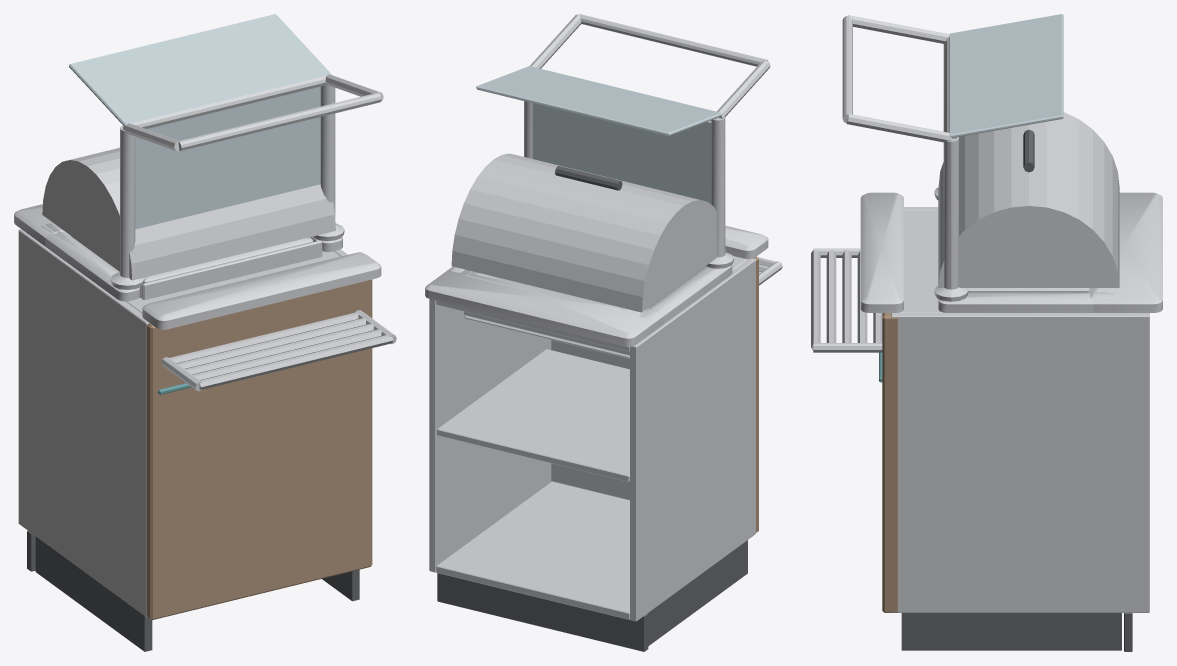
File: hotel-and-resort-operations-buffet-counter-cold-6838ea7e__25897.glb
3 views of the same model, side by side, from view 1: azimuth 30°, elevation 25°; view 2: azimuth 150°, elevation 25°; view 3: azimuth 270°, elevation 25° (orthographic). The views are drawn at different scales.
Parts seen in each view (by area): view 1: buffet-counter-cold, lid-buffet/metal; view 2: buffet-counter-cold, lid-buffet/metal, lid-buffet/dark; view 3: buffet-counter-cold, lid-buffet/metal.
Boxes of the visible parts, x1=… form: buffet-counter-cold: x1=14, y1=14, x2=396, y2=651; lid-buffet/metal: x1=42, y1=147, x2=335, y2=280; buffet-counter-cold: x1=425, y1=14, x2=782, y2=651; lid-buffet/metal: x1=451, y1=153, x2=725, y2=312; lid-buffet/dark: x1=555, y1=166, x2=622, y2=190; buffet-counter-cold: x1=811, y1=14, x2=1162, y2=651; lid-buffet/metal: x1=938, y1=112, x2=1119, y2=287.
Bounding box in the file's own units: 0.62 × 1.36 × 0.815.
